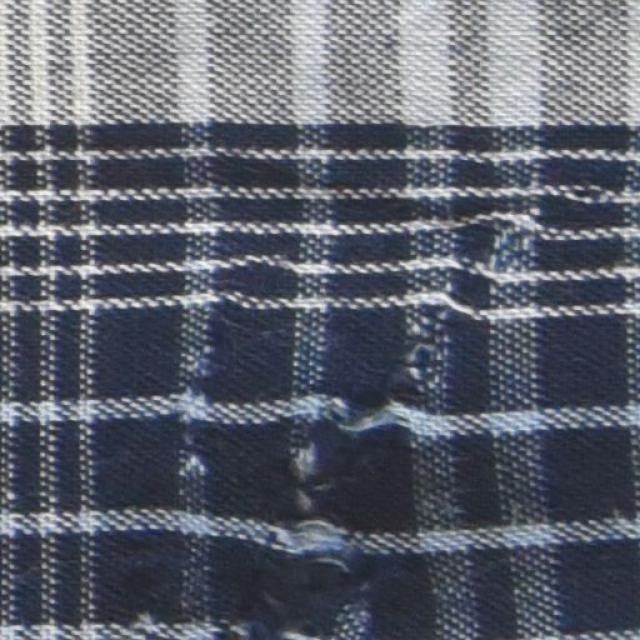Snag: (223, 439, 378, 640), (342, 279, 453, 443)
